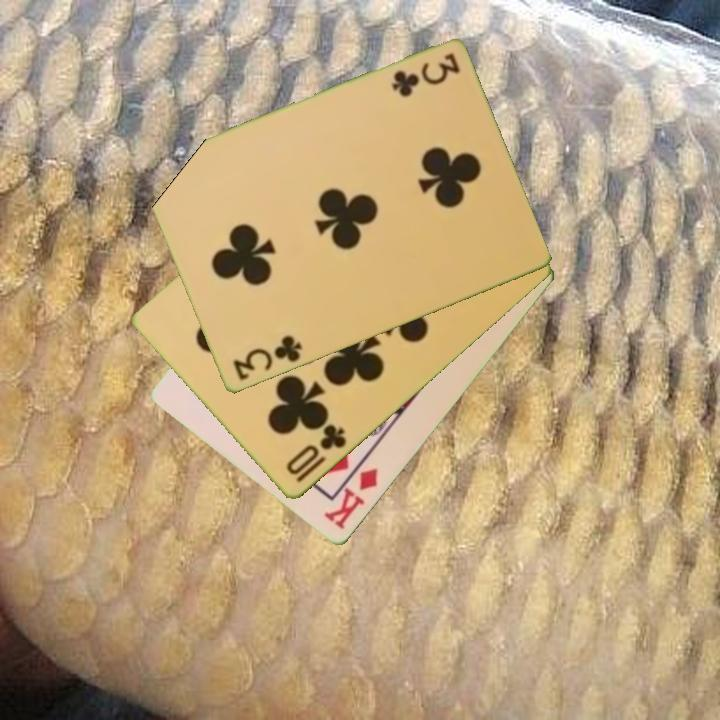10c: (282, 420, 350, 486)
3c: (229, 332, 305, 384), (388, 50, 463, 100)
Kd: (320, 465, 381, 533)
